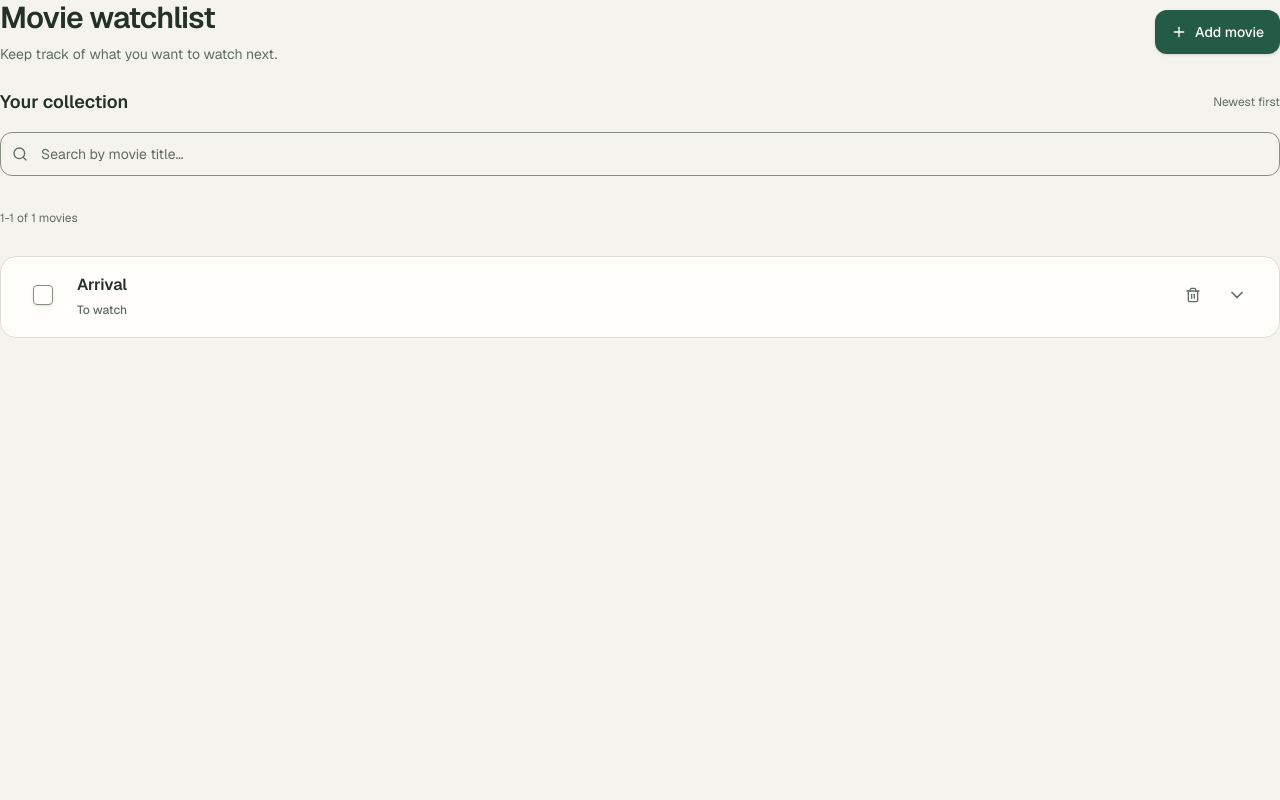
Test: MovieWatchlist › requires delete confirmation and returns focus when cancelled
Step 1. Click the button named "Delete Arrival" → {"x": 1193, "y": 295}, box [1171,273,1215,317]
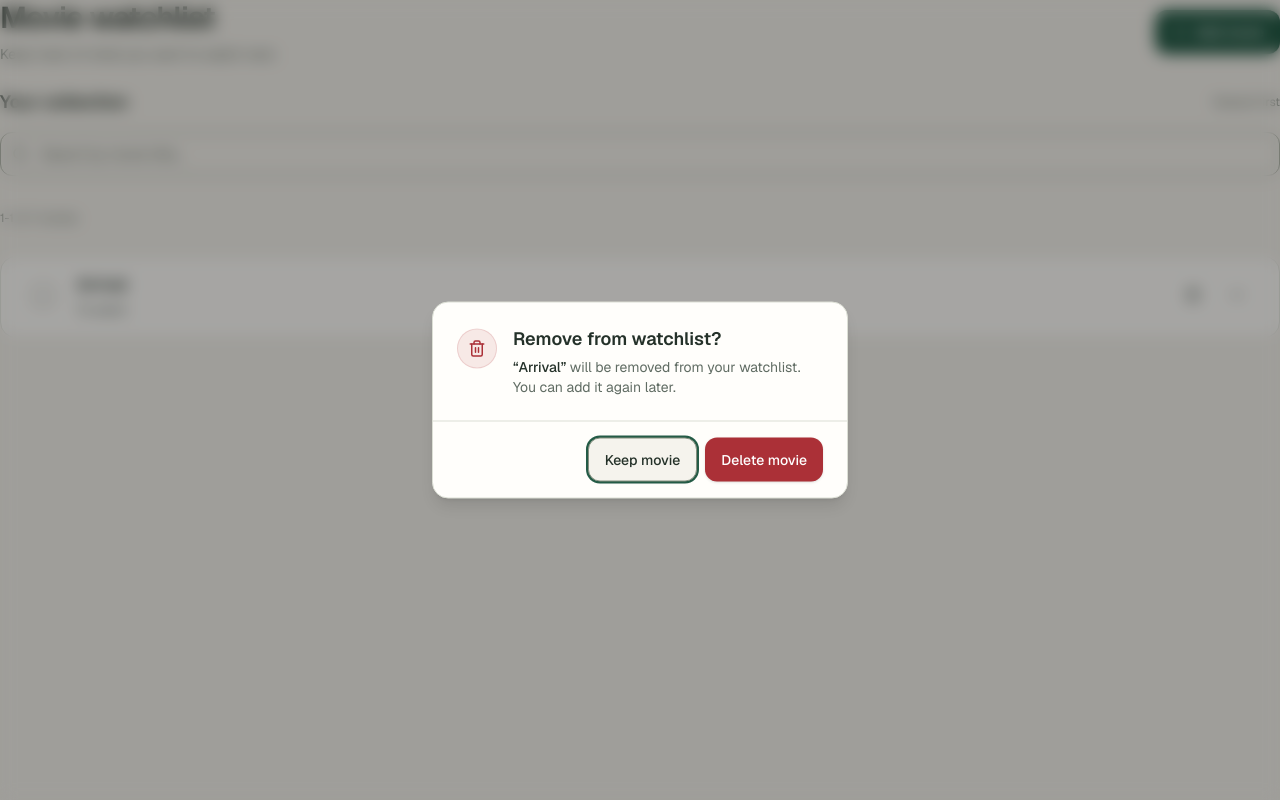
Step 2. Click the button "Keep movie" → {"x": 642, "y": 460}, box [588,438,697,482]
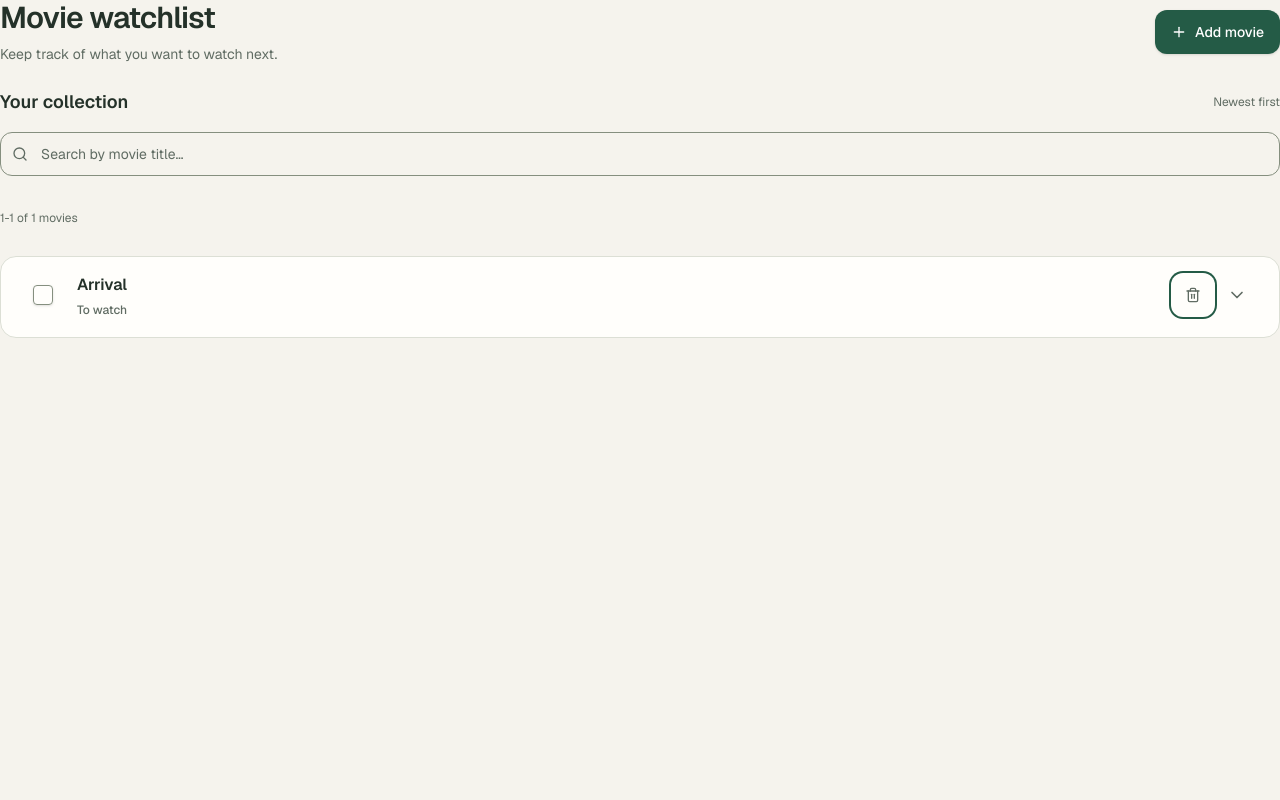
Expected: the dialog is gone
